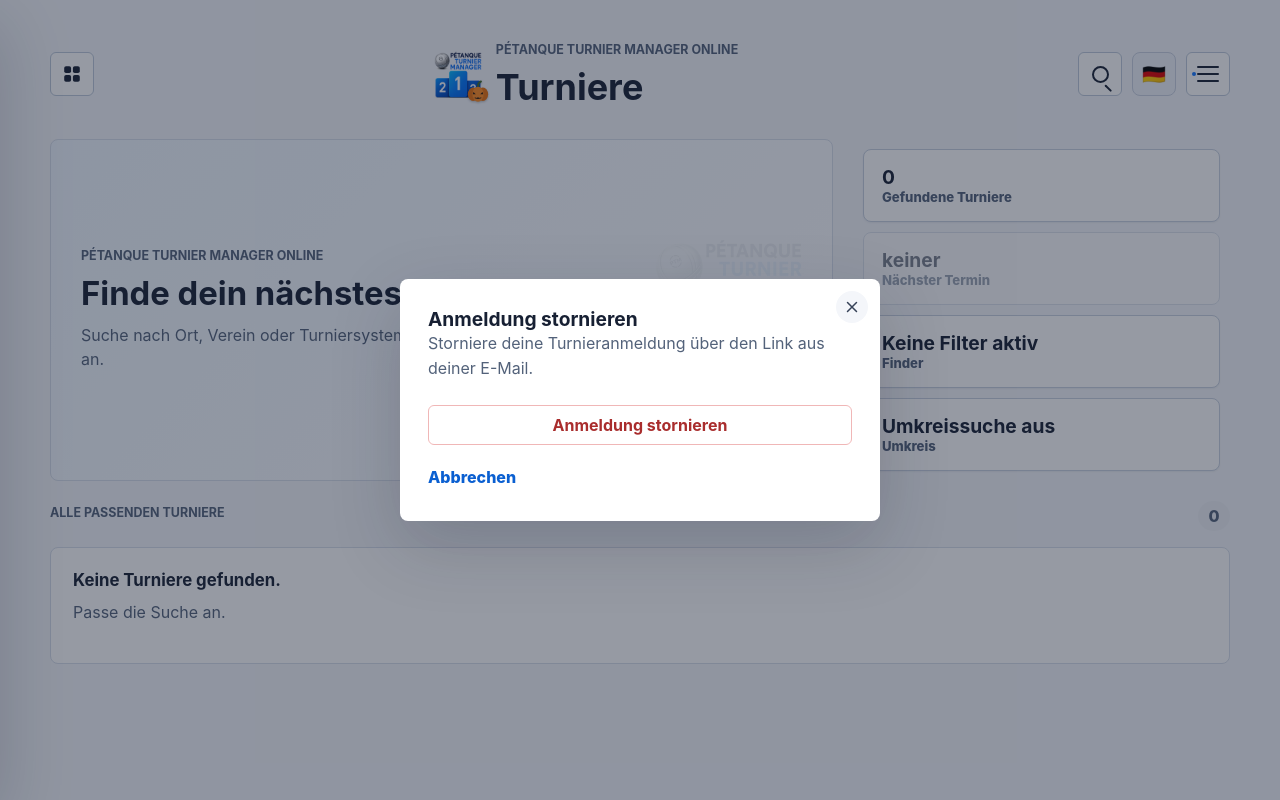
it: Abmeldung über persönlichen Link › storniert ohne Anmeldung ausschließlich mit dem Token aus dem Link
Click the button "Anmeldung stornieren" at (640, 425), box 428,405 -> 852,445
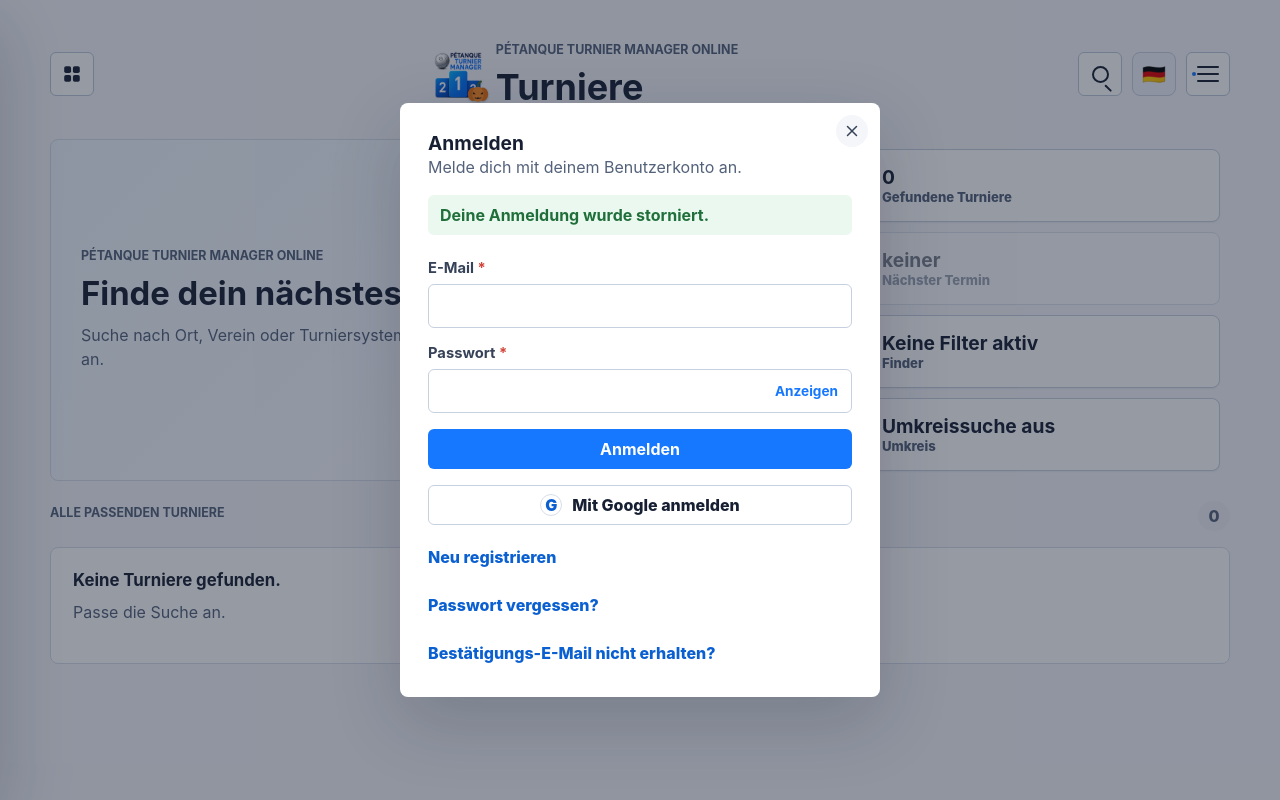
Expected: the text "Deine Anmeldung wurde storniert." is shown, 428,195 -> 852,235
